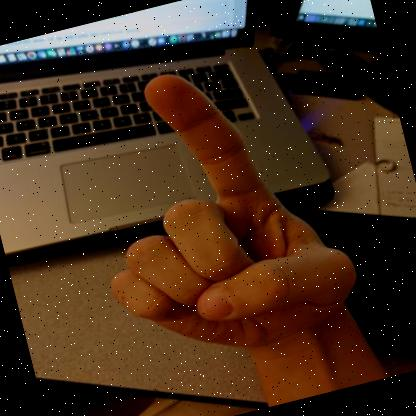D: (111, 74, 359, 355)
